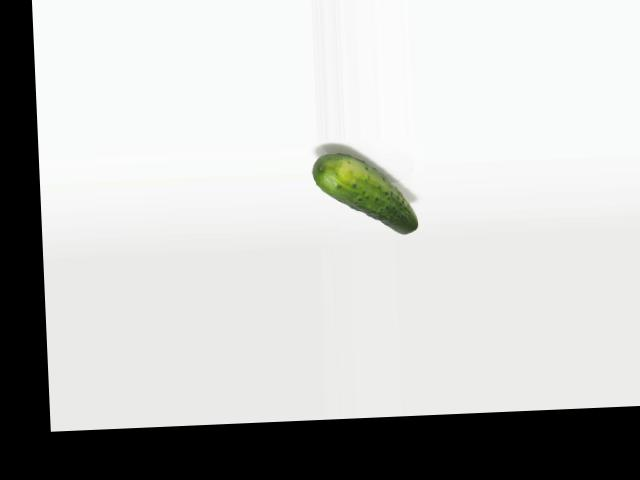cucumber: (312, 150, 419, 237)
